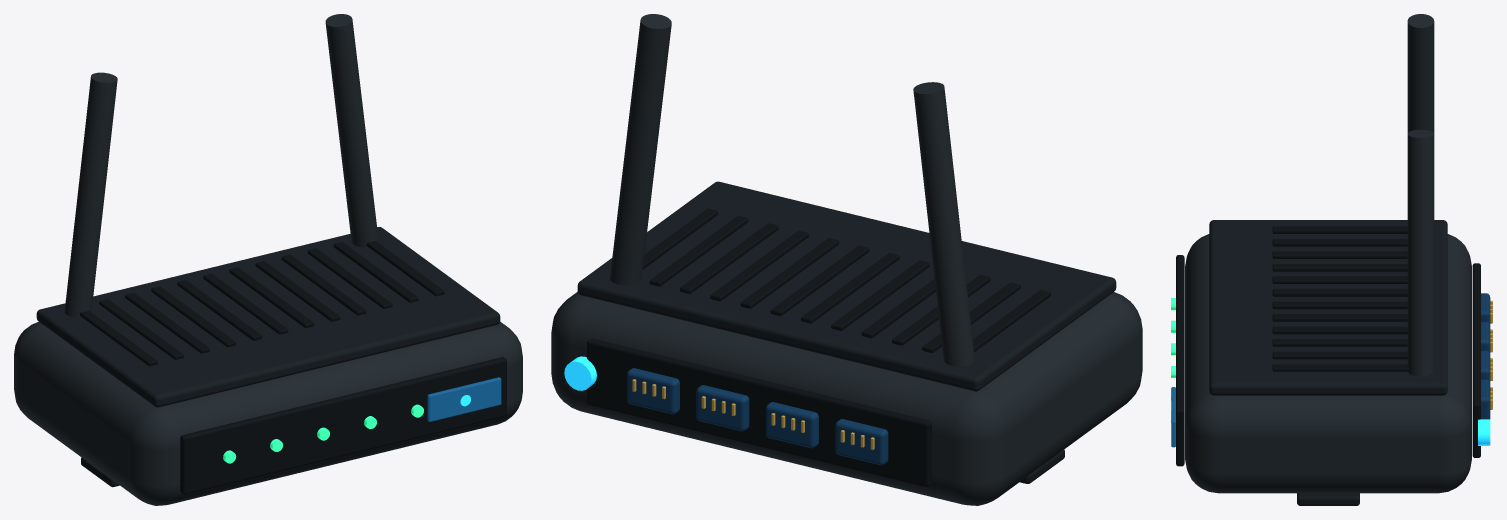
Rendered from broadband-modem.glb.
3 views of the same model, side by side, from view 1: azimuth 30°, elevation 25°; view 2: azimuth 150°, elevation 25°; view 3: azimuth 270°, elevation 25° (orthographic). The views are drawn at different scales.
Parts seen in each view (by area): view 1: Brushed top panel, Ventilated gateway chassis, Front status panel, High-gain antenna (×2), Cooling slot (×12), Network display; view 2: Ventilated gateway chassis, Brushed top panel, High-gain antenna (×2), Rear IO panel, Cooling slot (×12), Gigabit ethernet port (×4), Premium broadband gateway, Power key; view 3: Ventilated gateway chassis, Brushed top panel, Cooling slot (×12), High-gain antenna (×2), Front status panel, Rear IO panel, Non-slip foot, Gigabit ethernet port.
Boxes of the visible parts, x1,y1,x2,y2 form: Brushed top panel: (36, 227, 500, 407); Ventilated gateway chassis: (14, 321, 522, 505); Front status panel: (180, 357, 506, 494); High-gain antenna (×2): (64, 14, 378, 317); Cooling slot (×12): (80, 240, 444, 366); Network display: (427, 377, 501, 421); Ventilated gateway chassis: (551, 291, 1142, 505); Brushed top panel: (577, 181, 1116, 391); High-gain antenna (×2): (610, 14, 974, 366); Rear IO panel: (587, 338, 931, 487); Cooling slot (×12): (642, 208, 1051, 352); Gigabit ethernet port (×4): (627, 368, 888, 465); Premium broadband gateway: (632, 379, 874, 449); Power key: (564, 356, 596, 390); Ventilated gateway chassis: (1185, 234, 1471, 493); Brushed top panel: (1209, 220, 1447, 395); Cooling slot (×12): (1272, 226, 1408, 371); High-gain antenna (×2): (1407, 14, 1434, 376); Front status panel: (1176, 255, 1184, 466); Rear IO panel: (1472, 263, 1480, 457); Non-slip foot: (1297, 493, 1359, 505); Gigabit ethernet port: (1481, 379, 1490, 419).
Bounding box in the file's own units: 1.82 × 1.58 × 1.32.
